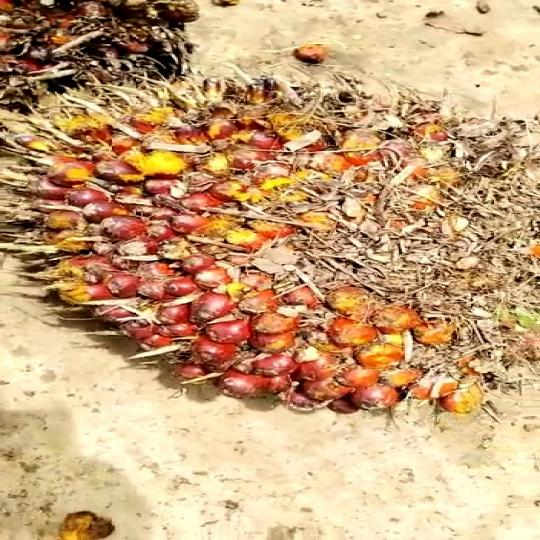masak: (0, 75, 540, 428)
